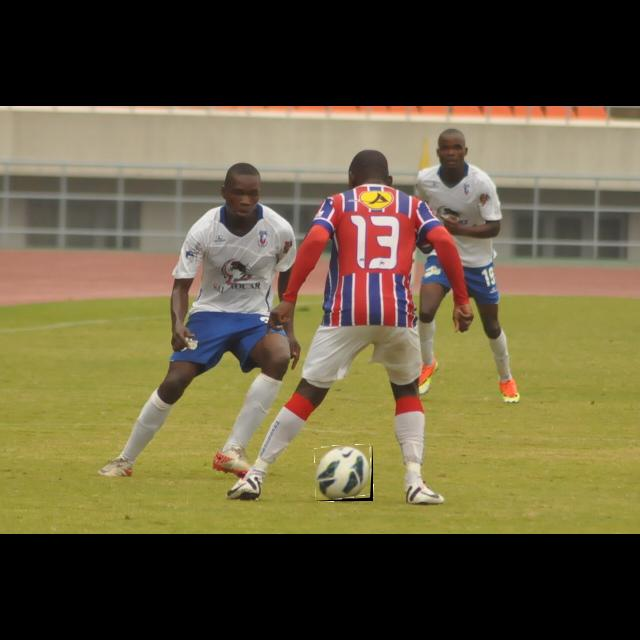Football: (315, 445, 373, 501)
